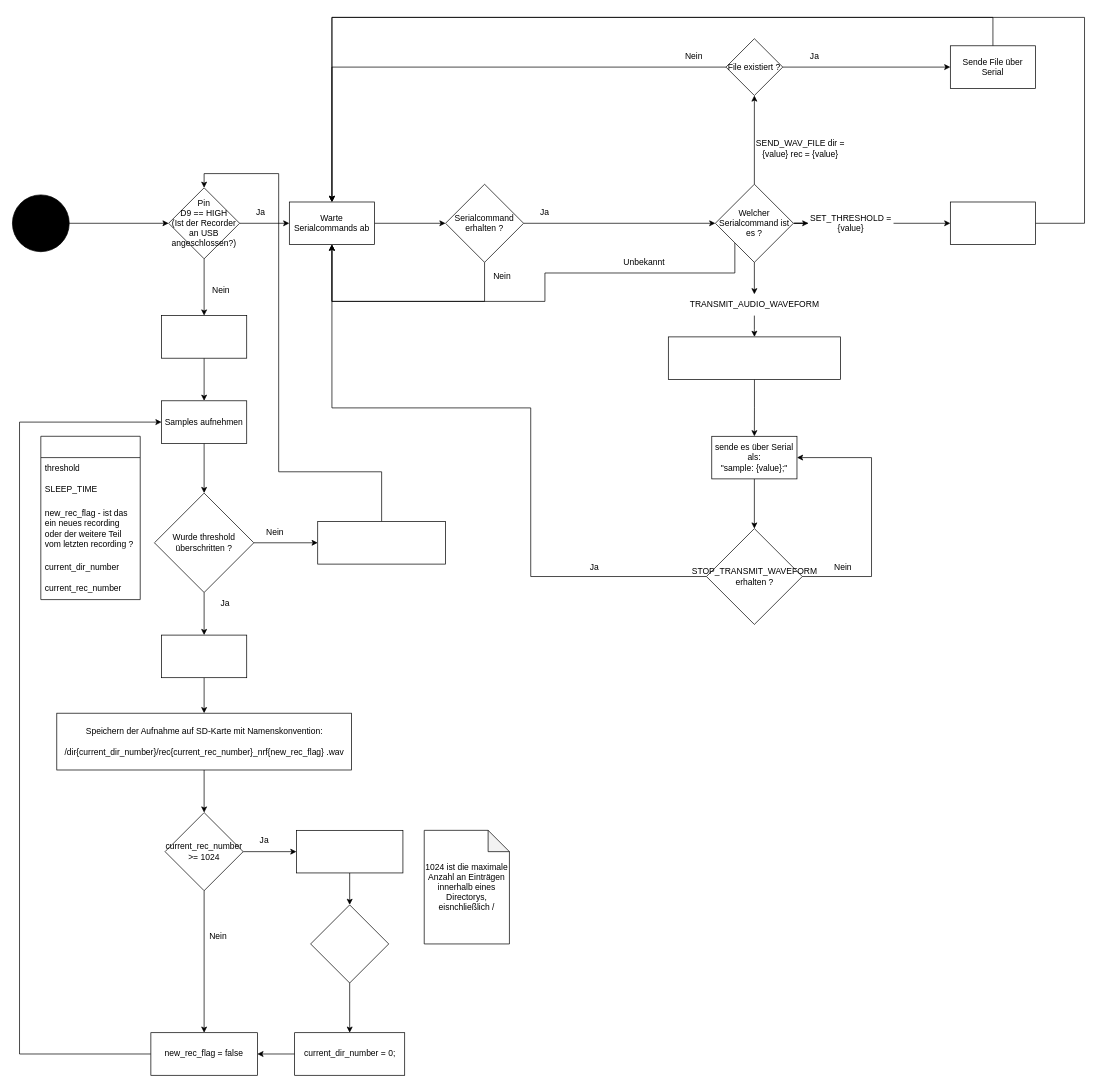
This 1103x1088 diagram has some shape labels left out. The box of each missing label's shape, as (x1, y1, x2, y2) in pixels:
10s Audio aufnehmen: (161, 634, 247, 678)
current_dir_number >= 1024: (310, 904, 389, 983)
current_rec_number = 0; current_dir_number ++;: (296, 830, 403, 873)
new_rec_flag = true: (317, 521, 446, 564)
nimm 1 sample auf: (668, 336, 840, 379)
Recorder-Parameter: (40, 436, 140, 600)
Schlafe für SLEEP_TIME: (161, 315, 247, 358)
threshold = {value}: (950, 201, 1036, 245)
